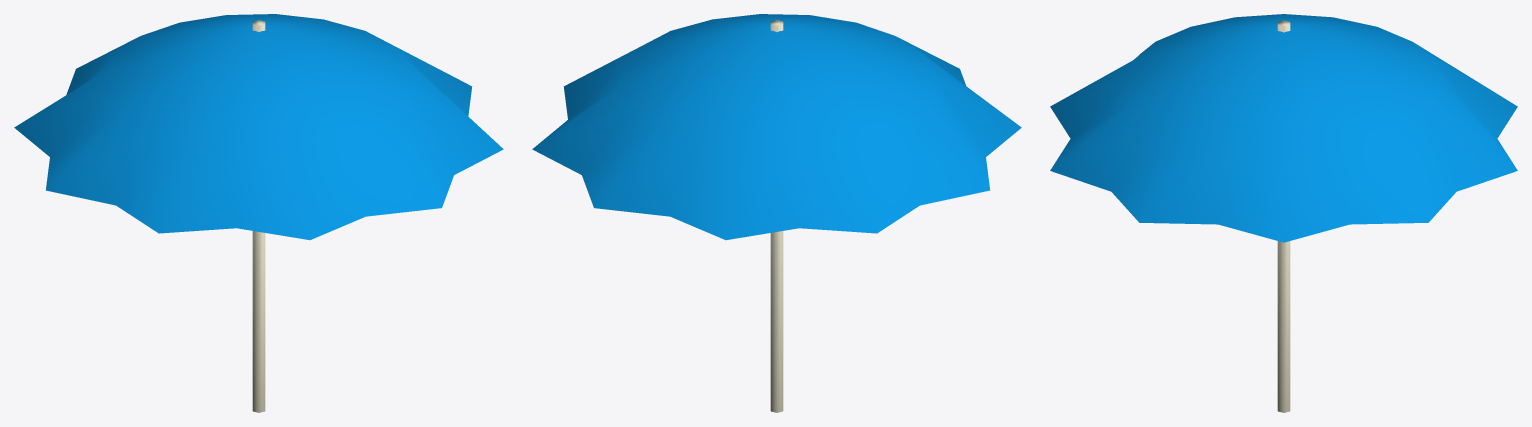
File: umbrella.gltf
3 views of the same model, side by side, from view 1: azimuth 30°, elevation 25°; view 2: azimuth 150°, elevation 25°; view 3: azimuth 270°, elevation 25° (orthographic).
Visible parts, largest first — view 1: node-0; view 2: node-0; view 3: node-0.
Part boxes in pixels (x1,y1,x2,y2): node-0: (14,14,503,412); node-0: (532,14,1021,412); node-0: (1050,14,1517,412).
Bounding box in the file's own units: 280 × 243 × 266.
